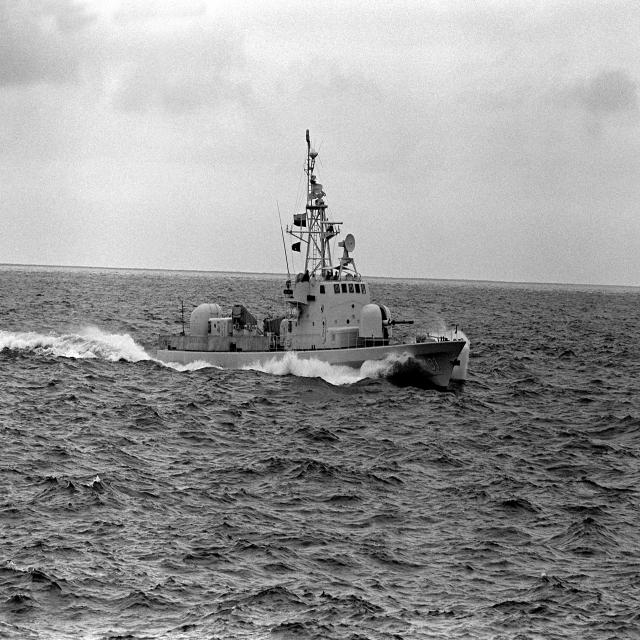navalvessels: (138, 138, 466, 392)
